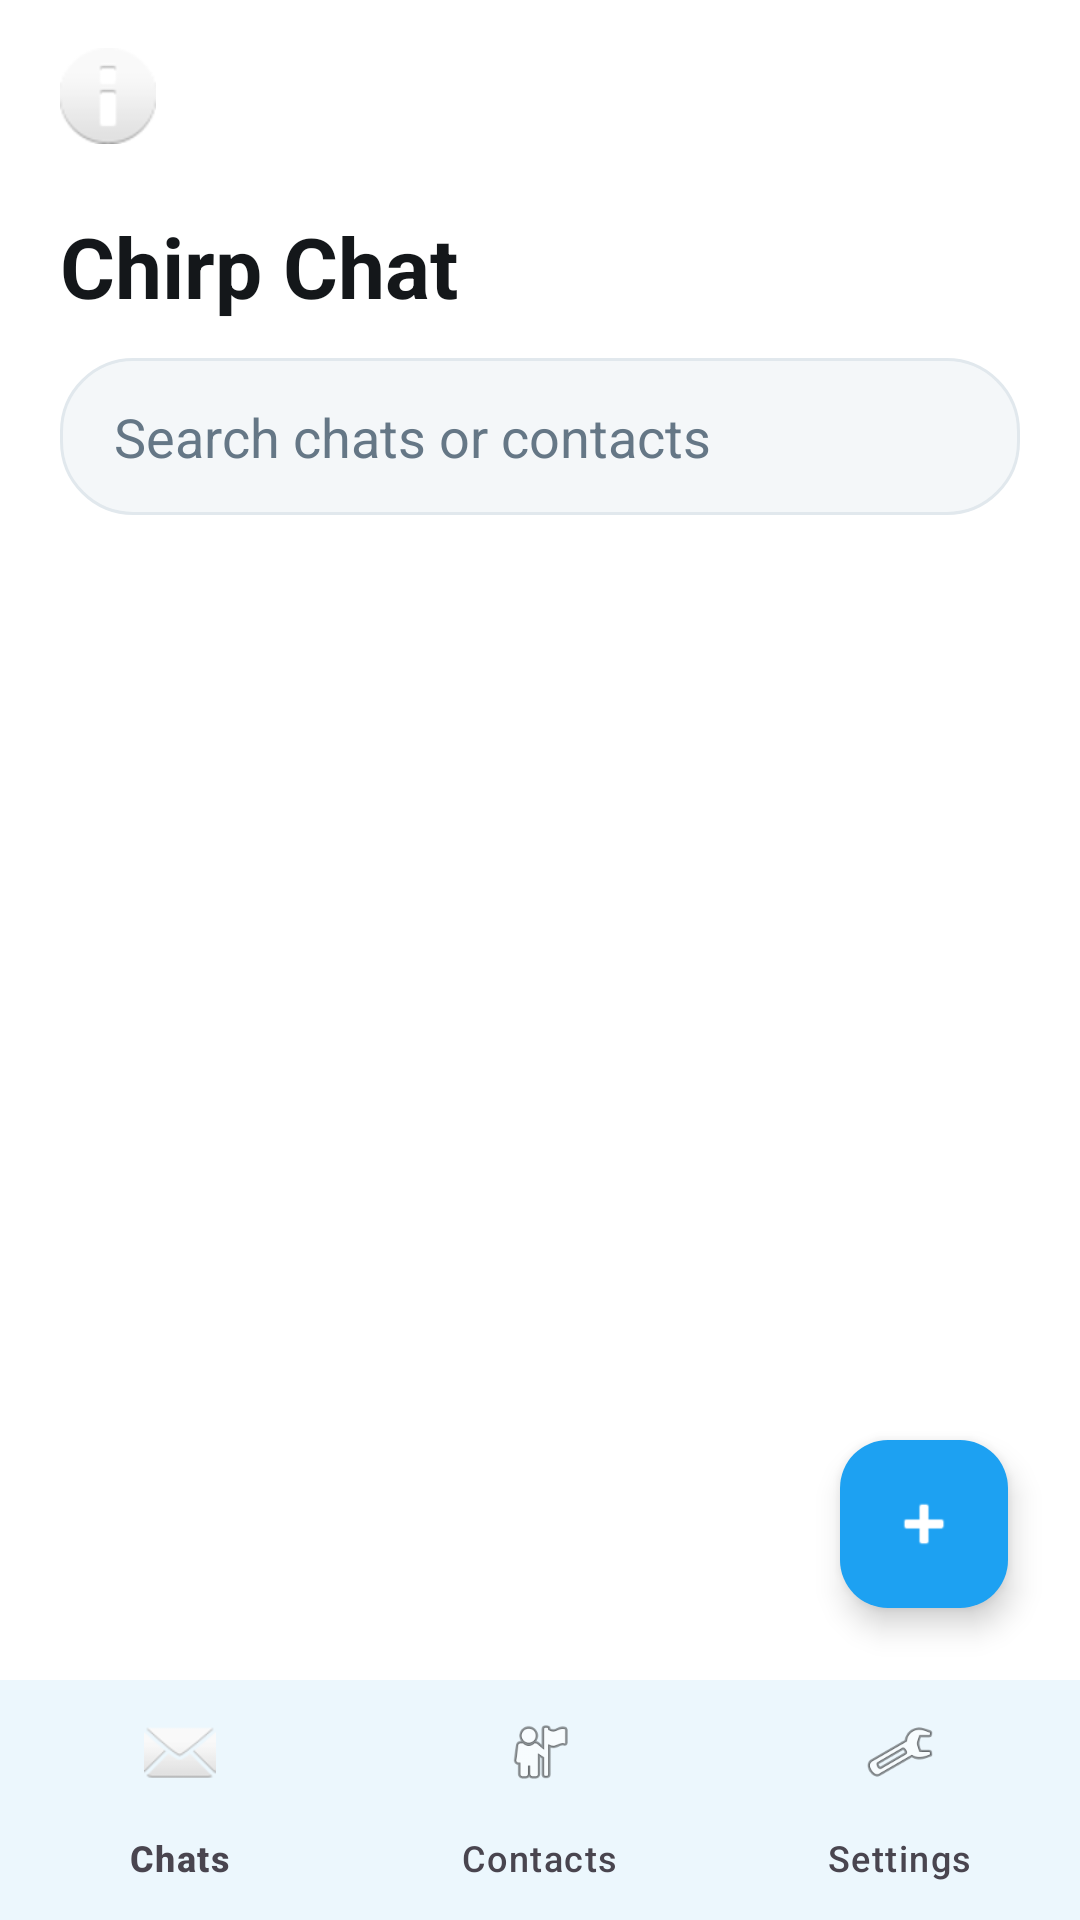

Icons on this 1080w x 1920h Android screen, each with the point to tap as point (x, y):
New chat: point (924, 1524)
